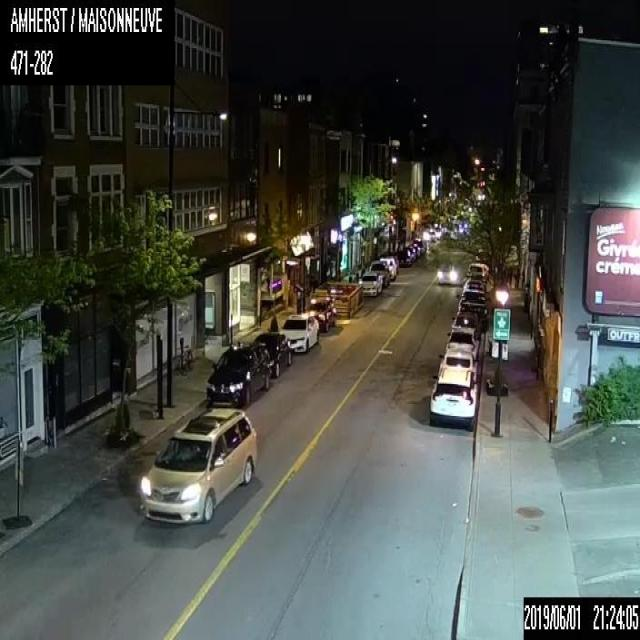vehicle: (140, 408, 257, 523), (206, 341, 269, 406), (428, 364, 478, 428), (252, 332, 291, 377), (279, 313, 318, 352), (438, 349, 478, 382), (445, 327, 480, 359), (456, 288, 489, 318), (306, 297, 334, 331), (451, 310, 481, 337), (358, 272, 382, 295), (369, 260, 389, 287), (379, 256, 397, 280), (434, 268, 458, 286), (468, 262, 488, 281), (463, 278, 483, 290)
